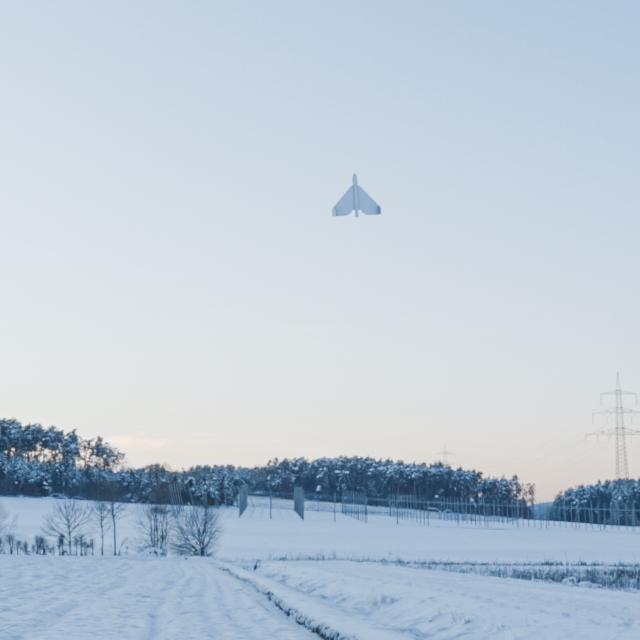Airaplan: (332, 173, 381, 218)
